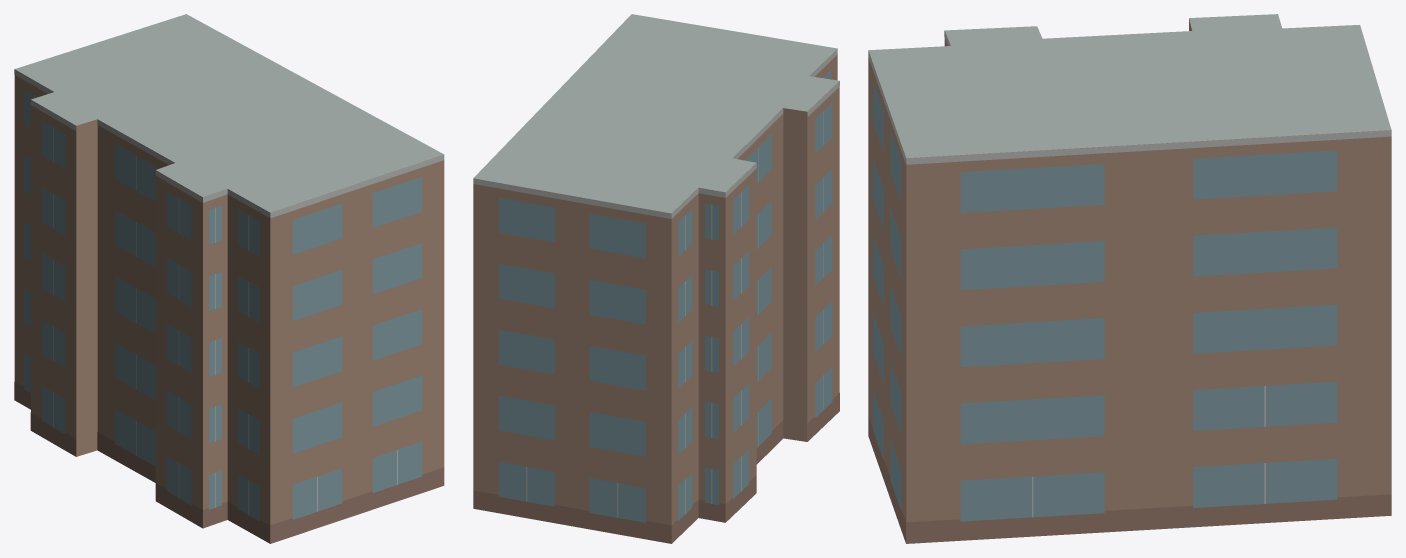
Rendered from survey-upis-32967802.glb.
3 views of the same model, side by side, from view 1: azimuth 30°, elevation 25°; view 2: azimuth 150°, elevation 25°; view 3: azimuth 270°, elevation 25° (orthographic). The views are drawn at different scales.
Parts seen in each view (by area): view 1: survey-upis-32967802.tmp; view 2: survey-upis-32967802.tmp; view 3: survey-upis-32967802.tmp.
Boxes of the visible parts, x1,y1,x2,y2 form: survey-upis-32967802.tmp: [14, 14, 444, 543]; survey-upis-32967802.tmp: [473, 14, 839, 543]; survey-upis-32967802.tmp: [868, 14, 1391, 543].
Size of the model in its own units: 11.56 by 14.4 by 17.72.
